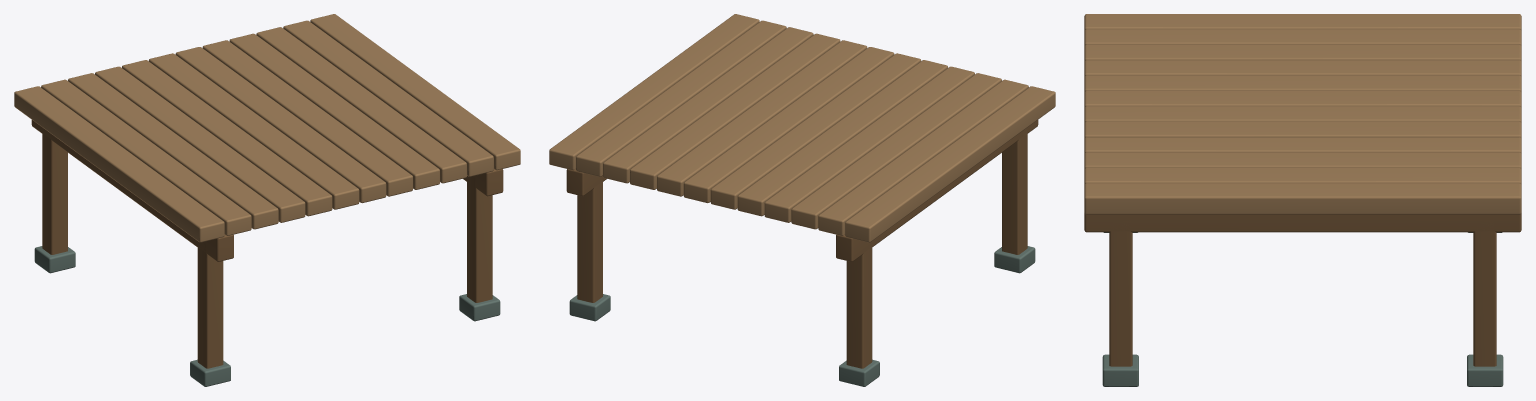
Rendered from build-floor.glb.
3 renders of one model, left to right at view 1: azimuth 30°, elevation 25°; view 2: azimuth 150°, elevation 25°; view 3: azimuth 270°, elevation 25°, orthographic. The views are drawn at different scales.
Visible parts, largest first — view 1: Floor plank, Floor plank.002, Floor plank.003, Floor plank.005, Floor plank.001, Floor plank.004, Floor plank.006, Floor plank.010, Floor plank.007, Floor plank.009, Floor plank.011, Floor plank.008 (+8 smaller); view 2: Floor plank, Floor plank.002, Floor plank.003, Floor plank.005, Floor plank.001, Floor plank.004, Floor plank.006, Floor plank.010, Floor plank.007, Floor plank.009, Floor plank.011, Floor plank.008 (+8 smaller); view 3: Floor plank.011, Floor support beam.001, Floor plank.002, Floor plank.003, Floor plank.007, Floor plank, Floor plank.001, Floor plank.004, Floor plank.005, Floor plank.006, Floor plank.008, Floor plank.009 (+5 smaller).
Boxes of the visible parts, <box> form: Floor plank: <box>14,86,224,242</box>; Floor plank.002: <box>68,73,278,229</box>; Floor plank.003: <box>95,66,305,222</box>; Floor plank.005: <box>148,53,359,209</box>; Floor plank.001: <box>41,79,251,235</box>; Floor plank.004: <box>122,60,332,216</box>; Floor plank.006: <box>175,47,386,203</box>; Floor plank.010: <box>283,20,493,176</box>; Floor plank.007: <box>202,40,412,196</box>; Floor plank.009: <box>256,27,466,183</box>; Floor plank.011: <box>310,14,520,170</box>; Floor plank.008: <box>229,33,439,189</box>; Floor plank: <box>845,86,1055,242</box>; Floor plank.002: <box>791,73,1001,229</box>; Floor plank.003: <box>764,66,974,222</box>; Floor plank.005: <box>710,53,921,209</box>; Floor plank.001: <box>818,79,1028,235</box>; Floor plank.004: <box>737,60,947,216</box>; Floor plank.006: <box>683,47,894,203</box>; Floor plank.010: <box>576,20,786,176</box>; Floor plank.007: <box>657,40,867,196</box>; Floor plank.009: <box>603,27,813,183</box>; Floor plank.011: <box>549,14,759,170</box>; Floor plank.008: <box>630,33,840,189</box>; Floor plank.011: <box>1084,183,1521,214</box>; Floor support beam.001: <box>1084,213,1521,232</box>; Floor plank.002: <box>1084,44,1521,61</box>; Floor plank.003: <box>1084,60,1521,77</box>; Floor plank.007: <box>1084,121,1521,138</box>; Floor plank: <box>1084,14,1521,30</box>; Floor plank.001: <box>1084,29,1521,46</box>; Floor plank.004: <box>1084,75,1521,92</box>; Floor plank.005: <box>1084,91,1521,107</box>; Floor plank.006: <box>1084,106,1521,123</box>; Floor plank.008: <box>1084,137,1521,153</box>; Floor plank.009: <box>1084,152,1521,169</box>.
Size of the model in its own units: 2.99 by 1.5 by 3.
